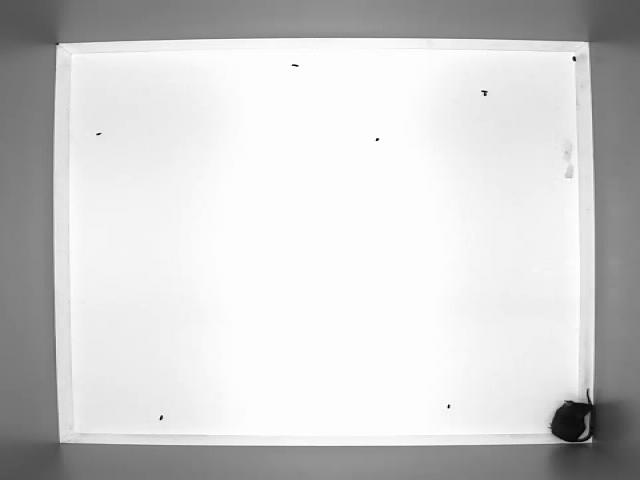Tikus: (550, 388, 596, 443)
